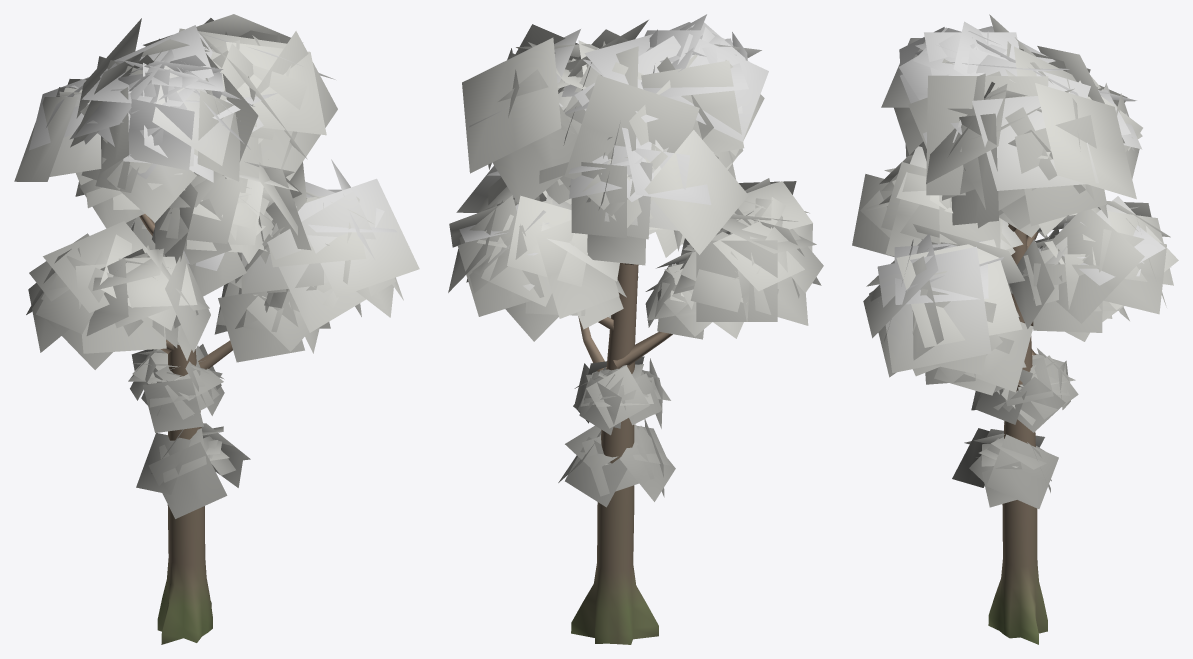
File: jungleB_lod1.glb
3 renders of one model, left to right at view 1: azimuth 30°, elevation 25°; view 2: azimuth 150°, elevation 25°; view 3: azimuth 270°, elevation 25°, orthographic. The views are drawn at different scales.
Visible parts, largest first — view 1: jungleB; view 2: jungleB; view 3: jungleB.
Part boxes in pixels (<box>): jungleB: <box>14,14,419,644</box>; jungleB: <box>448,14,823,644</box>; jungleB: <box>852,14,1178,644</box>.
Size of the model in its own units: 23.57 by 39.21 by 20.06.
